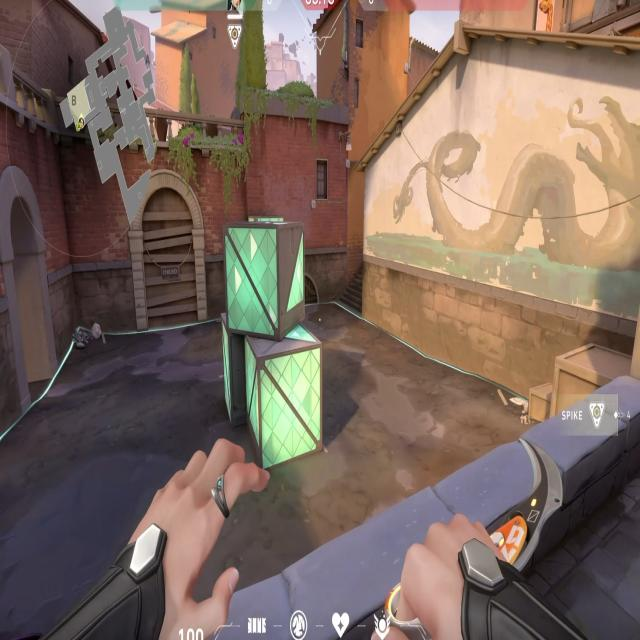B_Site_Box: (217, 216, 332, 465)
